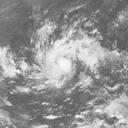cyclone: (32, 34, 107, 91)
